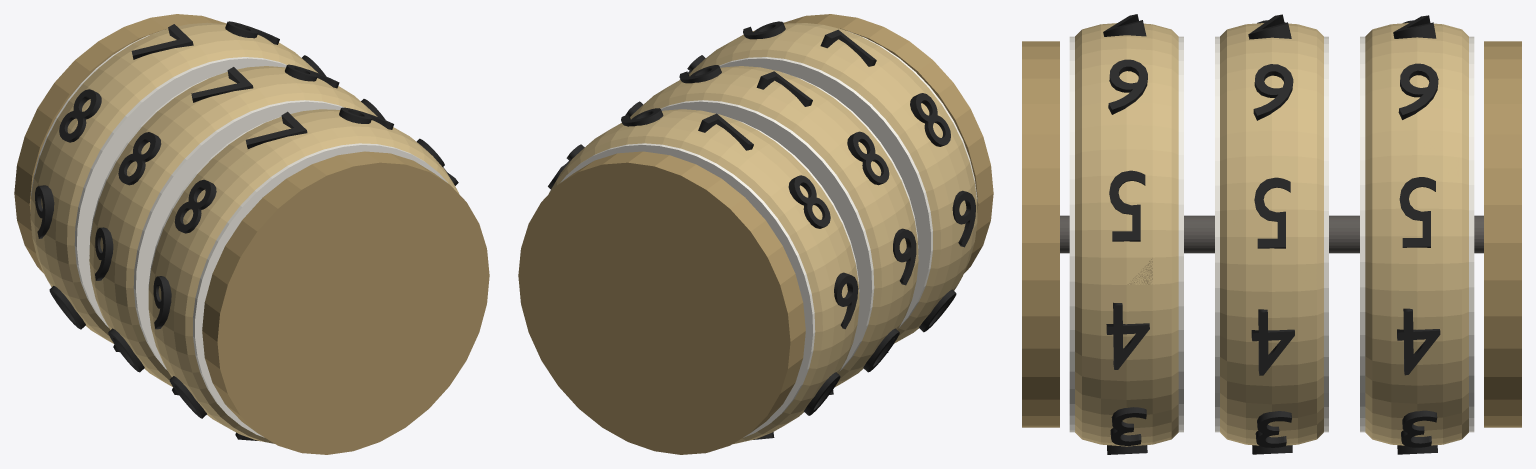
The model's file is RJ_E4_02_CadeadoNumerico.fbx.
3 views of the same model, side by side, from view 1: azimuth 30°, elevation 25°; view 2: azimuth 150°, elevation 25°; view 3: azimuth 270°, elevation 25° (orthographic). The views are drawn at different scales.
Visible parts, largest first — view 1: Cadeado_Base, Dial_1_Borda, Dial_2_Borda, Dial_3_Borda, Dial_3, Dial_2, Cadeado_Topo, Dial_1, Num_D3_8, Num_D1_8, Num_D2_8, Num_D3_9 (+11 smaller); view 2: Cadeado_Topo, Dial_3_Borda, Dial_2_Borda, Dial_1_Borda, Dial_1, Dial_2, Cadeado_Base, Dial_3, Num_D2_8, Num_D3_8, Num_D1_8, Num_D3_9 (+11 smaller); view 3: Dial_1_Borda, Dial_2_Borda, Dial_3_Borda, Cadeado_Base, Cadeado_Topo, Dial_1, Dial_3, Dial_2, Cadeado_Eixo, Num_D2_6, Num_D3_6, Num_D1_6 (+12 smaller).
Boxes of the visible parts, left/top/right/bottom form: Cadeado_Base: left=202, top=151, right=489, bottom=454; Dial_1_Borda: left=148, top=109, right=459, bottom=443; Dial_2_Borda: left=89, top=66, right=377, bottom=387; Dial_3_Borda: left=30, top=22, right=317, bottom=343; Dial_3: left=30, top=35, right=286, bottom=327; Dial_2: left=89, top=77, right=343, bottom=370; Cadeado_Topo: left=14, top=14, right=226, bottom=272; Dial_1: left=148, top=117, right=447, bottom=437; Num_D3_8: left=59, top=89, right=101, bottom=142; Num_D1_8: left=174, top=179, right=216, bottom=233; Num_D2_8: left=118, top=132, right=161, bottom=185; Num_D3_9: left=35, top=185, right=54, bottom=238; Cadeado_Topo: left=518, top=151, right=805, bottom=454; Dial_3_Borda: left=548, top=109, right=859, bottom=443; Dial_2_Borda: left=630, top=66, right=918, bottom=386; Dial_1_Borda: left=689, top=23, right=977, bottom=343; Dial_1: left=719, top=31, right=977, bottom=327; Dial_2: left=660, top=77, right=918, bottom=370; Cadeado_Base: left=783, top=14, right=993, bottom=273; Dial_3: left=560, top=121, right=859, bottom=437; Num_D2_8: left=847, top=131, right=889, bottom=185; Num_D3_8: left=788, top=175, right=830, bottom=228; Num_D1_8: left=910, top=93, right=950, bottom=146; Num_D3_9: left=834, top=272, right=858, bottom=329; Dial_1_Borda: left=1075, top=23, right=1178, bottom=446; Dial_2_Borda: left=1220, top=23, right=1323, bottom=445; Dial_3_Borda: left=1365, top=23, right=1468, bottom=445; Cadeado_Base: left=1022, top=41, right=1059, bottom=427; Cadeado_Topo: left=1484, top=41, right=1521, bottom=427; Dial_1: left=1069, top=36, right=1183, bottom=432; Dial_3: left=1360, top=36, right=1474, bottom=432; Dial_2: left=1215, top=36, right=1328, bottom=432; Cadeado_Eixo: left=1060, top=215, right=1483, bottom=253; Num_D2_6: left=1253, top=64, right=1293, bottom=120; Num_D3_6: left=1398, top=63, right=1438, bottom=119; Num_D1_6: left=1108, top=59, right=1147, bottom=114.
Size of the model in its own units: 9.28 by 9.4 by 10.6.
